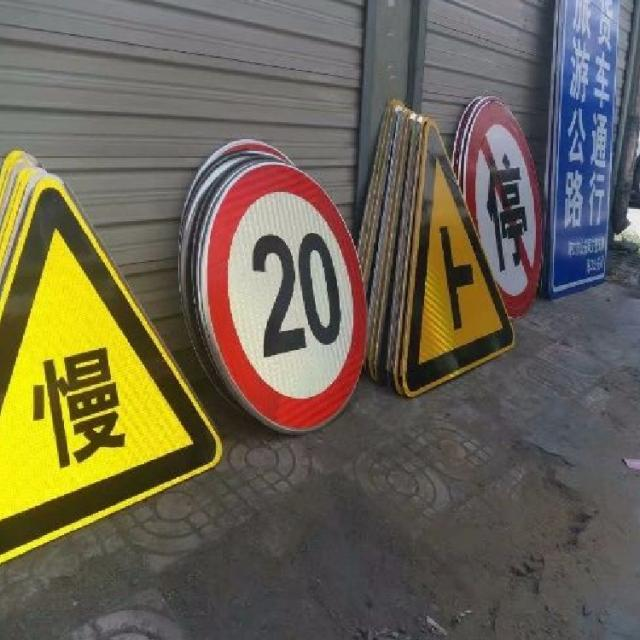speed limit 20: (198, 158, 368, 434)
